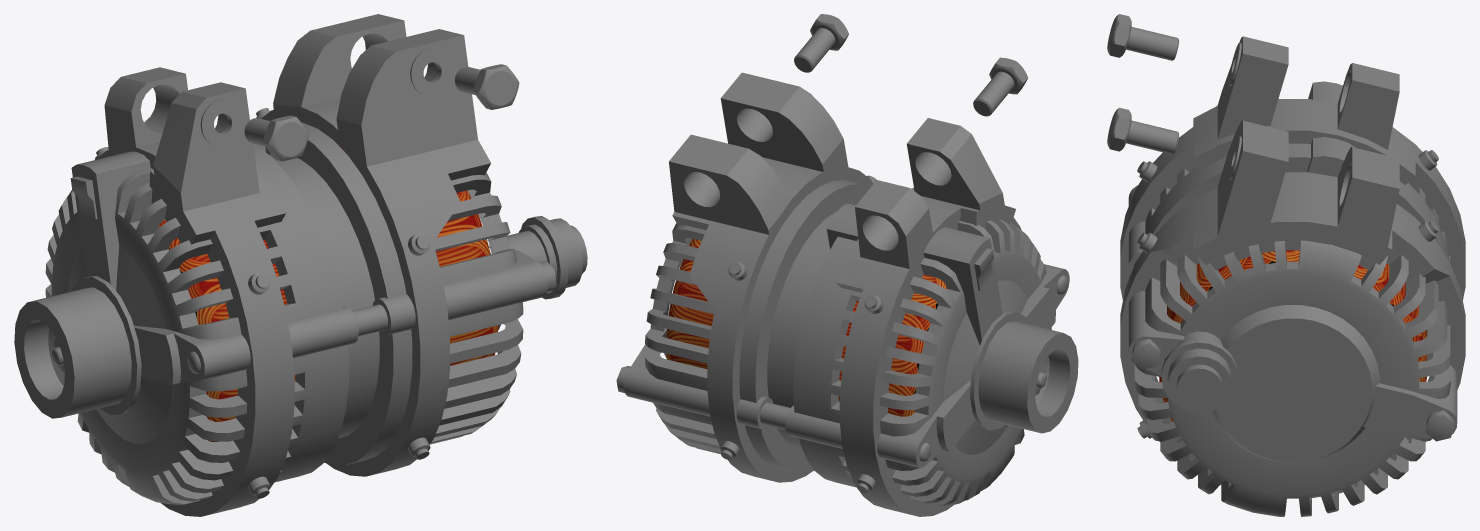
Rendered from alternator.glb.
3 renders of one model, left to right at view 1: azimuth 30°, elevation 25°; view 2: azimuth 150°, elevation 25°; view 3: azimuth 270°, elevation 25°, orthographic. The views are drawn at different scales.
Visible parts, largest first — view 1: alternator(0), alt_coil, Obj_srubaSilnik_0, srubaSilnik_0; view 2: alternator(0), alt_coil, srubaSilnik_0, Obj_srubaSilnik_0; view 3: alternator(0), alt_coil, srubaSilnik_0, Obj_srubaSilnik_0.
Part boxes in pixels (x1=…): alternator(0): x1=14, y1=14, x2=587, y2=516; alt_coil: x1=158, y1=147, x2=497, y2=441; Obj_srubaSilnik_0: x1=455, y1=64, x2=519, y2=109; srubaSilnik_0: x1=244, y1=115, x2=308, y2=161; alternator(0): x1=616, y1=72, x2=1078, y2=516; alt_coil: x1=666, y1=239, x2=946, y2=416; srubaSilnik_0: x1=973, y1=57, x2=1027, y2=116; Obj_srubaSilnik_0: x1=794, y1=14, x2=848, y2=72; alternator(0): x1=1120, y1=36, x2=1465, y2=516; alt_coil: x1=1159, y1=250, x2=1426, y2=421; srubaSilnik_0: x1=1107, y1=14, x2=1179, y2=60; Obj_srubaSilnik_0: x1=1107, y1=107, x2=1178, y2=154.
Size of the model in its own units: 0.00379 by 0.00338 by 0.00269.
2 materials, 1 textured.
